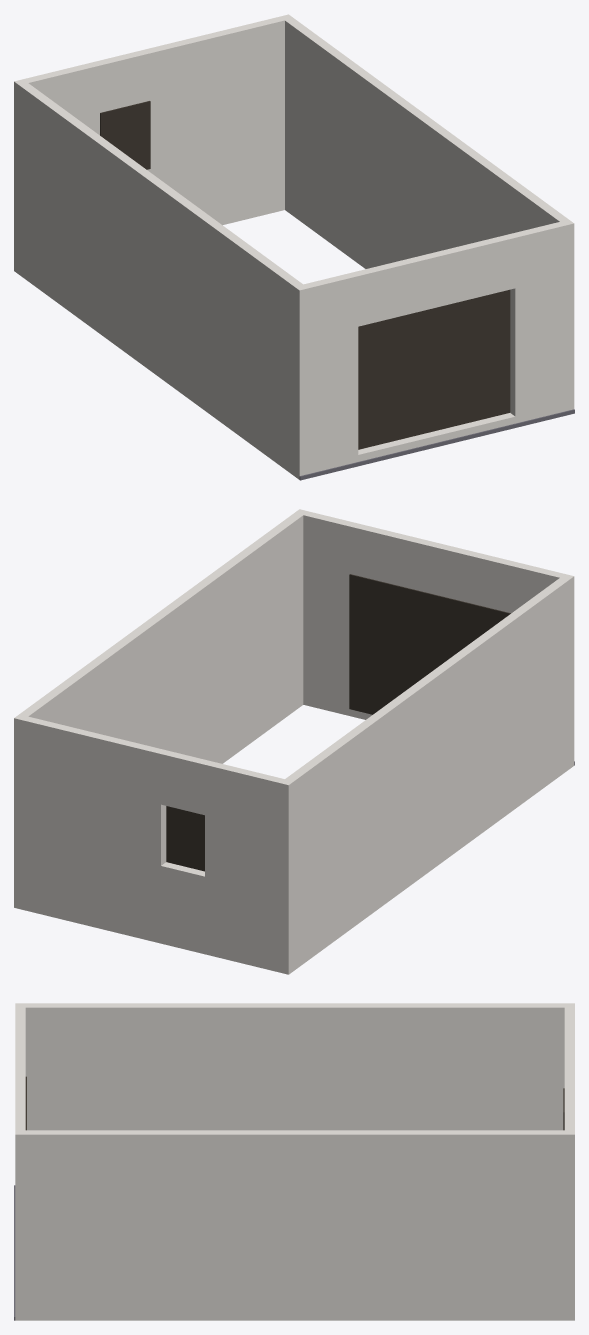
Rendered from SM_Floor_NarrowUpperBalcony_White_455_Back_01.gltf.
The picture shows the model from 3 angles, top to bottom: view 1: azimuth 30°, elevation 25°; view 2: azimuth 150°, elevation 25°; view 3: azimuth 270°, elevation 25°; orthographic projection. The views are drawn at different scales.
Parts seen in each view (by area): view 1: SM_Floor_NarrowUpperBalcony_White_455_Back_01; view 2: SM_Floor_NarrowUpperBalcony_White_455_Back_01; view 3: SM_Floor_NarrowUpperBalcony_White_455_Back_01.
Part boxes in pixels (x1,y1,x2,y2): SM_Floor_NarrowUpperBalcony_White_455_Back_01: [14, 14, 574, 480]; SM_Floor_NarrowUpperBalcony_White_455_Back_01: [14, 509, 574, 974]; SM_Floor_NarrowUpperBalcony_White_455_Back_01: [14, 1003, 574, 1320].
Size of the model in its own units: 4.55 by 3 by 8.21.
1 material, 1 textured.
